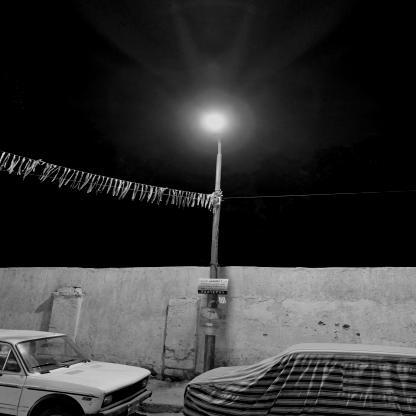light_pole: (202, 113, 225, 372)
